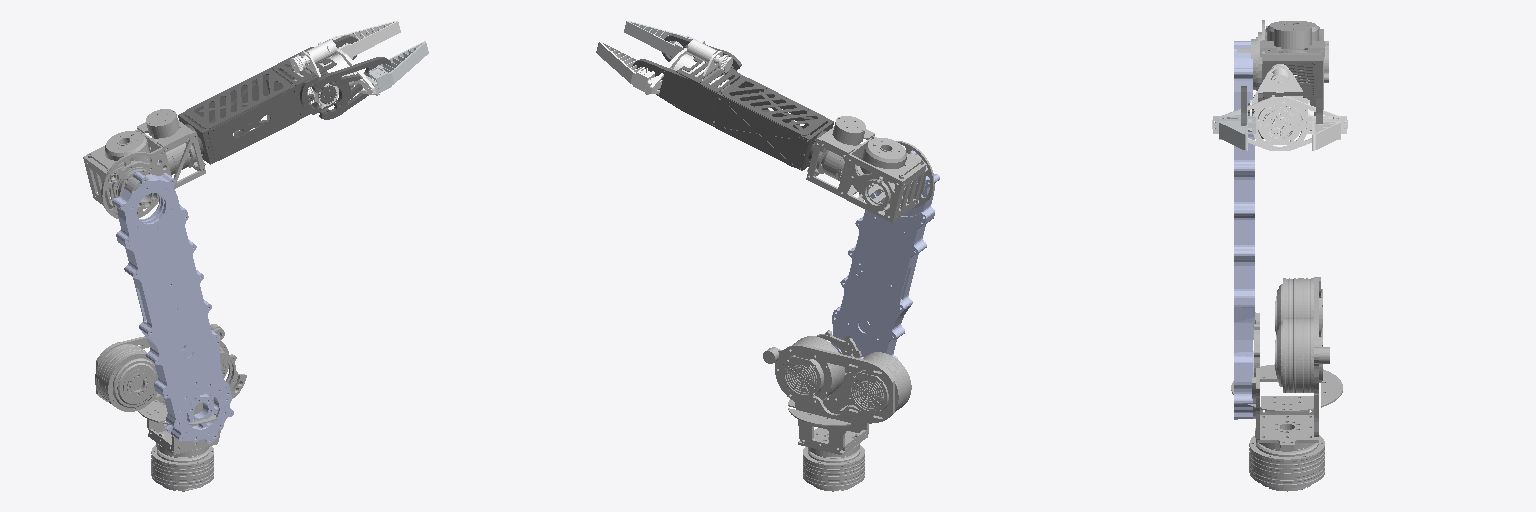
URDF robot description (arv_v1):
<?xml version="1.0" encoding="utf-8"?>
<!-- This URDF was automatically created by SolidWorks to URDF Exporter! Originally created by Stephen Brawner (brawner@gmail.com) 
     Commit Version: 1.6.0-4-g7f85cfe  Build Version: 1.6.7995.38578
     For more information, please see http://wiki.ros.org/sw_urdf_exporter -->
<robot
  name="arv_v1">
  <link
    name="base_link">
    <inertial>
      <origin
        xyz="-3.96062265210927E-05 4.06405754959547E-05 -0.0285876113334189"
        rpy="0 0 0" />
      <mass
        value="0.980" />
      <inertia
        ixx="7.231E-04"
        ixy="1.430E-09"
        ixz="3.218E-08"
        iyy="7.242E-04"
        iyz="-2.724E-08"
        izz="1.107E-03" />
    </inertial>
    <visual>
      <origin
        xyz="0 0 0"
        rpy="0 0 0" />
      <geometry>
        <mesh
          filename="package://arv_v1_model/meshes/base_link.STL" />
      </geometry>
      <material
        name="">
        <color
          rgba="0.752941176470588 0.752941176470588 0.752941176470588 1" />
      </material>
    </visual>
    <collision>
      <origin xyz="0 0 -0.03" rpy="0 0 0" />
      <geometry>
        <cylinder length="0.06" radius="0.06" />
      </geometry>
    </collision>
  </link>
  <link
    name="link1">
    <inertial>
      <origin
        xyz="-0.0154999931132019 0.00790164285412029 0.10483558147126"
        rpy="0 0 0" />
      <mass
        value="2.485" />
      <inertia
        ixx="0.002558"
        ixy="8.462E-07"
        ixz="-1.852E-05"
        iyy="0.004402"
        iyz="2.423E-06"
        izz="0.002687" />
    </inertial>
    <visual>
      <origin
        xyz="0 0 0"
        rpy="0 0 0" />
      <geometry>
        <mesh
          filename="package://arv_v1_model/meshes/link1.STL" />
      </geometry>
      <material
        name="">
        <color
          rgba="0.752941176470588 0.752941176470588 0.752941176470588 1" />
      </material>
    </visual>
    <collision>
      <origin xyz="0 0 0.06" rpy="0 0 0" />
      <geometry>
        <cylinder length="0.12" radius="0.04" />
      </geometry>
    </collision>
  </link>
  <joint
    name="joint_1"
    type="revolute">
    <origin
      xyz="0 0 0"
      rpy="0 0 0" />
    <parent
      link="base_link" />
    <child
      link="link1" />
    <axis
      xyz="0 0 1" />
    <limit
      lower="-1.2217"
      upper="1.2217"
      effort="27"
      velocity="20" />
    <dynamics
      damping="0.3"
      friction="0.3" />
  </joint>
  <link
    name="link2">
    <inertial>
      <origin
        xyz="0.173164697778785 -0.000992870986536 0.0570377412581279"
        rpy="0 0 0" />
      <mass
        value="1.13036010199932" />
      <inertia
        ixx="0.00142587127922893"
        ixy="-2.2216196167755E-05"
        ixz="-6.82089241798455E-06"
        iyy="0.0161880134214926"
        iyz="-5.42767939874218E-06"
        izz="0.0175303272584084" />
    </inertial>
    <visual>
      <origin
        xyz="0 -0.135 0"
        rpy="0 0 0" />
      <geometry>
        <mesh
          filename="package://arv_v1_model/meshes/link2.STL" />
      </geometry>
      <material
        name="">
        <color
          rgba="0.792156862745098 0.819607843137255 0.933333333333333 1" />
      </material>
    </visual>
    <collision>
      <origin xyz="0.19 0 0" rpy="0 1.5708 0" />
      <geometry>
        <cylinder length="0.36" radius="0.025" />
      </geometry>
    </collision>
  </link>
  <joint
    name="joint_2"
    type="revolute">
    <origin
      xyz="0 0 0.055"
      rpy="1.5707963267949 0 0" />
    <parent
      link="link1" />
    <child
      link="link2" />
    <axis
      xyz="0 0 1" />
    <limit
      lower="0.49"
      upper="3.14"
      effort="40"
      velocity="20" />
    <dynamics
      damping="0.3"
      friction="0.3" />
  </joint>
  <link
    name="link3">
    <inertial>
      <origin
        xyz="0.058615 0.000344 0.00524746875047932"
        rpy="0 0 0" />
      <mass
        value="2.211" />
      <inertia
        ixx="0.001933"
        ixy="3.672E-06"
        ixz="3.385E-06"
        iyy="0.001442"
        iyz="4.610E-05"
        izz="0.002125" />
    </inertial>
    <visual>
      <origin
        xyz="0 0 0"
        rpy="0 0 0" />
      <geometry>
        <mesh
          filename="package://arv_v1_model/meshes/link3.STL" />
      </geometry>
      <material
        name="">
        <color
          rgba="0.752941176470588 0.752941176470588 0.752941176470588 1" />
      </material>
    </visual>
    <collision>
      <origin xyz="0 -0.03 0" rpy="0 0 0" />
      <geometry>
        <cylinder length="0.06" radius="0.03" />
      </geometry>
    </collision>
  </link>
  <joint
    name="joint_3"
    type="revolute">
    <origin
      xyz="0.440 0 0"
      rpy="0 0 0" />
    <parent
      link="link2" />
    <child
      link="link3" />
    <axis
      xyz="0 0 1" />
    <limit
      lower="-0.90"
      upper="0.70"
      effort="54"
      velocity="10" />
    <dynamics
      damping="0.3"
      friction="0.3" />
  </joint>
  <link
    name="link4">
    <inertial>
      <origin
        xyz="0.001100 0.000588 0.155000"
        rpy="0 0 0" />
      <mass
        value="2.295" />
      <inertia
        ixx="0.008247"
        ixy="-2.063E-13"
        ixz="2.834E-07"
        iyy="0.008686"
        iyz="6.912E-07"
        izz="0.001099" />
    </inertial>
    <visual>
      <origin
        xyz="0 0 0"
        rpy="0 0 0" />
      <geometry>
        <mesh
          filename="package://arv_v1_model/meshes/link4.STL" />
      </geometry>
      <material
        name="">
        <color
          rgba="0.498039215686275 0.498039215686275 0.498039215686275 1" />
      </material>
    </visual>
    <collision>
      <origin xyz="0 0 0.22" rpy="0 0 0" />
      <geometry>
        <cylinder length="0.43" radius="0.02" />
      </geometry>
    </collision>
  </link>
  <joint
    name="joint_4"
    type="revolute">
    <origin
      xyz="0 0 0"
      rpy="1.5707963267949 0 0" />
    <parent
      link="link3" />
    <child
      link="link4" />
    <axis
      xyz="0 0 1" />
    <limit
      lower="-2.975"
      upper="3.14"
      effort="1.2"
      velocity="40" />
    <dynamics
      damping="0.3"
      friction="0.3" />
  </joint>
  <link
    name="link5">
    <inertial>
      <origin
        xyz="0.0160961942906923 0.000873845892292946 0.00896455872794405"
        rpy="0 0 0" />
      <mass
        value="0.180" />
      <inertia
        ixx="2.953E-05"
        ixy="1.153E-07"
        ixz="8.452E-08"
        iyy="5.008E-05"
        iyz="-1.880E-08"
        izz="2.968E-05" />
    </inertial>
    <visual>
      <origin
        xyz="0 0 0"
        rpy="0 0 0" />
      <geometry>
        <mesh
          filename="package://arv_v1_model/meshes/link5.STL" />
      </geometry>
      <material
        name="">
        <color
          rgba="1 1 1 1" />
      </material>
    </visual>
    <collision>
      <origin xyz="0.01 0 0" rpy="0 0 0" />
      <geometry>
        <cylinder length="0.03" radius="0.015" />
      </geometry>
    </collision>
  </link>
  <joint
    name="joint_5"
    type="revolute">
    <origin
      xyz="0 0 0.3505"
      rpy="-1.5707963267949 0 0" />
    <parent
      link="link4" />
    <child
      link="link5" />
    <axis
      xyz="0 0 1" />
    <limit
      lower="-1.5708"
      upper="1.5708"
      effort="7"
      velocity="20" />
    <dynamics
      damping="0.2"
      friction="0.2" />
  </joint>
  <link
    name="link6">
    <inertial>
      <origin
        xyz="-1.71529457304587E-14 0.0093499999991507 0.0563050373172609"
        rpy="0 0 0" />
      <mass
        value="0.106" />
      <inertia
        ixx="1.832E-04"
        ixy="5.839E-20"
        ixz="-2.422E-19"
        iyy="2.778E-05"
        iyz="-2.002E-19"
        izz="2.104E-04" />
    </inertial>
    <visual>
      <origin
        xyz="0 0 0"
        rpy="0 0 0" />
      <geometry>
        <mesh
          filename="package://arv_v1_model/meshes/link6.STL" />
      </geometry>
      <material
        name="">
        <color
          rgba="1 1 1 1" />
      </material>
    </visual>
    <collision>
      <origin xyz="0 0 0.03" rpy="0 0 0" />
      <geometry>
        <cylinder length="0.06" radius="0.015" />
      </geometry>
    </collision>
  </link>
  <joint
    name="joint_6"
    type="continuous">
    <origin
      xyz="0 0 0"
      rpy="1.57079632679552 0 0" />
    <parent
      link="link5" />
    <child
      link="link6" />
    <axis
      xyz="0 0 1" />
    <limit
      effort="1"
      velocity="20" />
    <dynamics
      damping="0.3"
      friction="0.4" />
  </joint>
  <link name="tcp"/>
  <joint name="joint_tcp" type="fixed">
    <origin xyz="0 0.000 0.179" rpy="0 0 0"/>
    <parent link="link6"/>
    <child link="tcp"/>
    <axis xyz="0 0 0"/>
  </joint>
  <link
    name="link_gripper1">
    <inertial>
      <origin
        xyz="2.95056978849573E-10 -0.0510942800009356 0.0859279675185114"
        rpy="0 0 0" />
      <mass
        value="0.104" />
      <inertia
        ixx="6.198E-05"
        ixy="8.695E-20"
        ixz="3.995E-19"
        iyy="5.250E-05"
        iyz="-7.314E-06"
        izz="2.048E-05" />
    </inertial>
    <visual>
      <origin
        xyz="0 0 0"
        rpy="0 0 0" />
      <geometry>
        <mesh
          filename="package://arv_v1_model/meshes/link_gripper1.STL" />
      </geometry>
      <material
        name="">
        <color
          rgba="1 1 1 1" />
      </material>
    </visual>
    <collision>
      <origin xyz="0 -0.05 0.09" rpy="0 0 0" />
      <geometry>
        <box size="0.012 0.012 0.06" />
      </geometry>
    </collision>
  </link>
  <joint
    name="joint_gripper1"
    type="prismatic">
    <origin
      xyz="0 0 0"
      rpy="0 0 0" />
    <parent
      link="link6" />
    <child
      link="link_gripper1" />
    <axis
      xyz="0 1 0" />
    <limit
      lower="0"
      upper="0.04"
      effort="70"
      velocity="0.1" />
    <dynamics
      damping="0.5"
      friction="0.5" />
  </joint>
  <link
    name="link_gripper2">
    <inertial>
      <origin
        xyz="6.38378239159465E-15 0.0697942805013251 0.0859376907229839"
        rpy="0 0 0" />
      <mass
        value="0.104" />
      <inertia
        ixx="6.198E-05"
        ixy="-7.226E-20"
        ixz="3.982E-19"
        iyy="5.250E-05"
        iyz="7.314E-06"
        izz="2.048E-05" />
    </inertial>
    <visual>
      <origin
        xyz="0 0 0"
        rpy="0 0 0" />
      <geometry>
        <mesh
          filename="package://arv_v1_model/meshes/link_gripper2.STL" />
      </geometry>
      <material
        name="">
        <color
          rgba="0.898039215686275 0.917647058823529 0.929411764705882 1" />
      </material>
    </visual>
    <collision>
      <origin xyz="0 0.05 0.09" rpy="0 0 0" />
      <geometry>
        <box size="0.012 0.012 0.06" />
      </geometry>
    </collision>
  </link>
  <joint
    name="joint_gripper2"
    type="prismatic">
    <origin
      xyz="0 0 0"
      rpy="0 0 0" />
    <parent
      link="link6" />
    <child
      link="link_gripper2" />
    <axis
      xyz="0 1 0" />
    <limit
      lower="-0.04"
      upper="0"
      effort="70"
      velocity="0.1" />
    <dynamics
      damping="0.5"
      friction="0.5" />
    <mimic
      joint="joint_gripper1"
      multiplier="-1"
      offset="0" />
  </joint>
  <link name="world"/>
  <joint name="world_fixed" type="fixed">
    <parent link="world"/>
    <child link="base_link"/>
    <origin xyz="-0.1 0 0.15" rpy="0 0 0"/>    
  </joint>
</robot>

--- Render facts (derived) ---
3 views of the same robot in one strip: view 1: azimuth 30°, elevation 25°; view 2: azimuth 150°, elevation 25°; view 3: azimuth 270°, elevation 25° (orthographic).
Robot: arv_v1 — 11 links, 10 joints (5 revolute, 1 continuous, 2 prismatic, 2 fixed); root link world; default pose: joints at zero except 1 at the middle of their limits (joint_2 = 1.81).
Links seen in each view (by area): view 1: link2, link4, link3, link1, base_link, link5, link_gripper2, link_gripper1; view 2: link1, link4, link2, link3, base_link, link5, link_gripper1, link_gripper2; view 3: link1, link2, link3, base_link, link6, link4, link5, link_gripper1, link_gripper2.
Boxes of the visible links, <box> form: link2: <box>112,172,233,443</box>; link4: <box>178,35,391,164</box>; link3: <box>83,109,205,218</box>; link1: <box>95,324,246,456</box>; base_link: <box>151,445,213,491</box>; link5: <box>290,39,354,108</box>; link_gripper2: <box>363,41,428,95</box>; link_gripper1: <box>318,21,400,58</box>; link1: <box>763,330,911,456</box>; link4: <box>632,34,833,170</box>; link2: <box>831,150,939,359</box>; link3: <box>806,116,933,222</box>; base_link: <box>803,445,864,491</box>; link5: <box>673,39,732,91</box>; link_gripper1: <box>596,41,657,94</box>; link_gripper2: <box>624,21,705,58</box>; link1: <box>1231,277,1342,450</box>; link2: <box>1234,41,1255,419</box>; link3: <box>1237,20,1328,109</box>; base_link: <box>1249,435,1324,491</box>; link6: <box>1212,97,1347,150</box>; link4: <box>1241,61,1322,138</box>; link5: <box>1250,64,1313,144</box>; link_gripper1: <box>1304,116,1346,150</box>; link_gripper2: <box>1213,116,1255,150</box>.
Bounding box of the posed robot: 0.5735 × 0.175 × 0.7003 m (x, y, z).
9 mesh visuals loaded from 9 distinct referenced files (9 binary STL).
